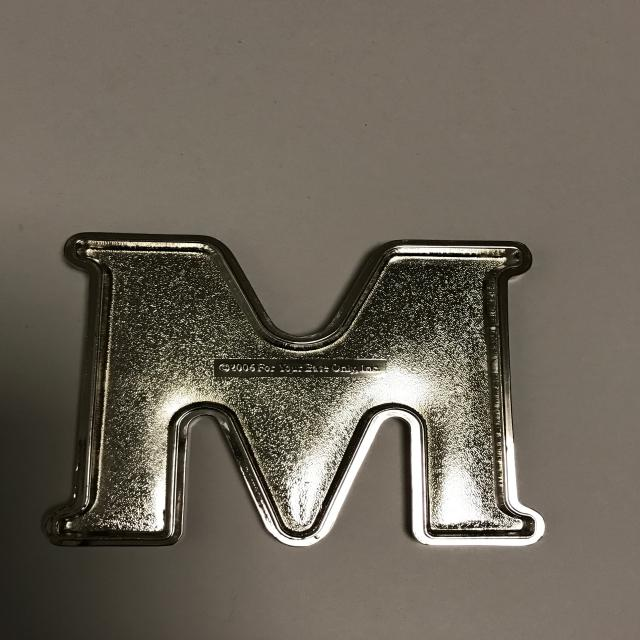metal: (43, 230, 546, 549)
